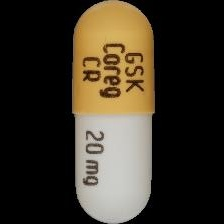0007-3371: (0, 0, 224, 224)
